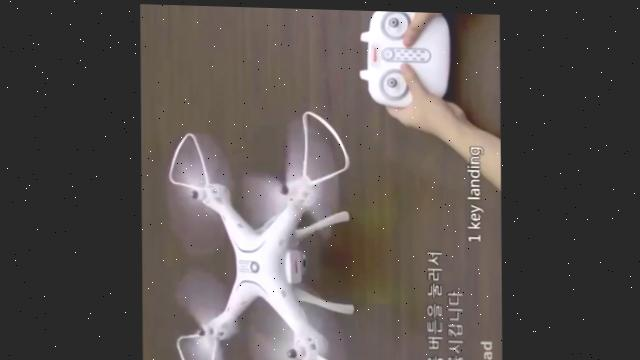drone: (164, 105, 362, 360)
